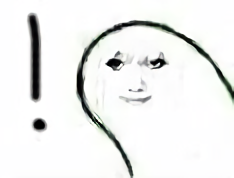dragon: (103, 49, 171, 104)
